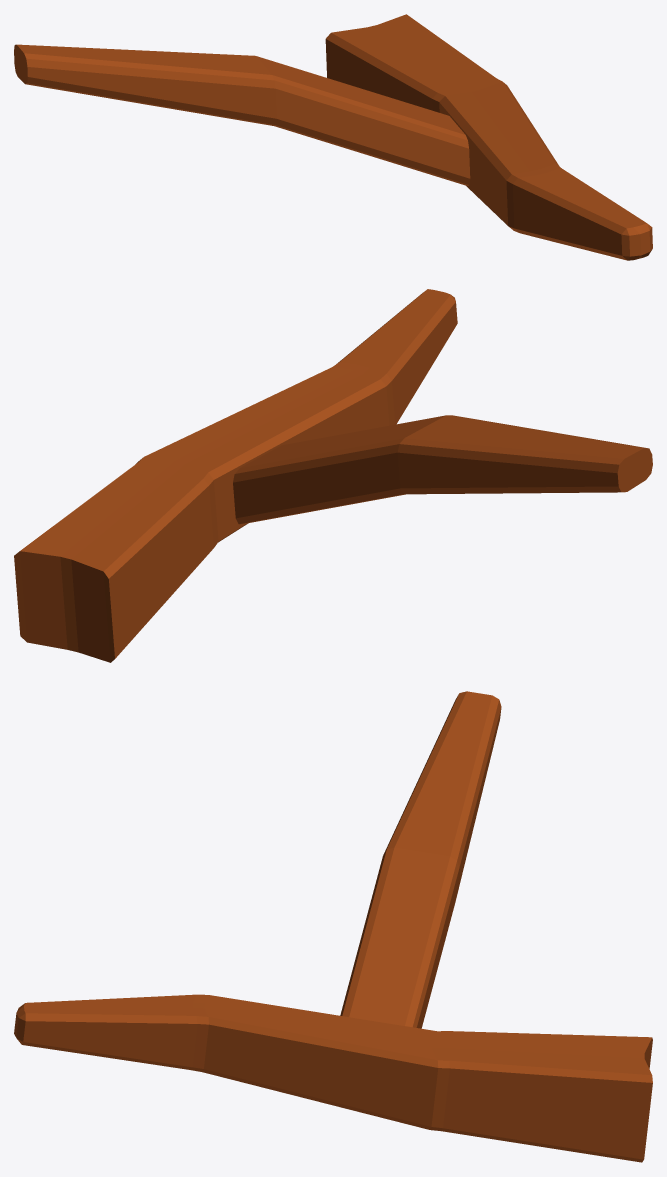
The model's file is dal3.fbx.
3 views of the same model, one above another, from view 1: azimuth 30°, elevation 25°; view 2: azimuth 150°, elevation 25°; view 3: azimuth 270°, elevation 25° (orthographic). The views are drawn at different scales.
Parts seen in each view (by area): view 1: Cylinder.008; view 2: Cylinder.008; view 3: Cylinder.008.
Part boxes in pixels (x1=…): Cylinder.008: x1=14, y1=14, x2=652, y2=260; Cylinder.008: x1=14, y1=289, x2=652, y2=662; Cylinder.008: x1=14, y1=691, x2=652, y2=1162.
Size of the model in its own units: 427 by 195 by 478.
